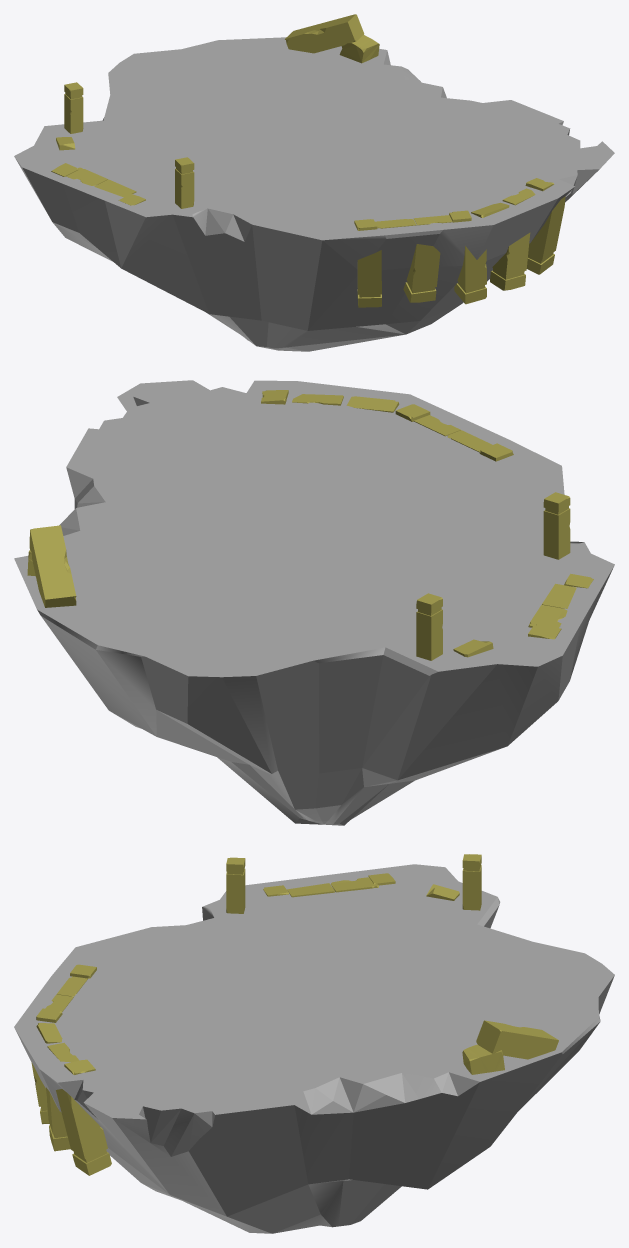
File: SM_Plateform_E.fbx
3 views of the same model, one above another, from view 1: azimuth 30°, elevation 25°; view 2: azimuth 150°, elevation 25°; view 3: azimuth 270°, elevation 25° (orthographic). The views are drawn at different scales.
Parts seen in each view (by area): view 1: Plateform_B; view 2: Plateform_B; view 3: Plateform_B.
Part boxes in pixels (x1,y1,x2,y2): Plateform_B: (14,14,614,351); Plateform_B: (14,380,614,825); Plateform_B: (14,854,614,1233).
Size of what is drawn, in the model's own units: 989 by 520 by 984.
